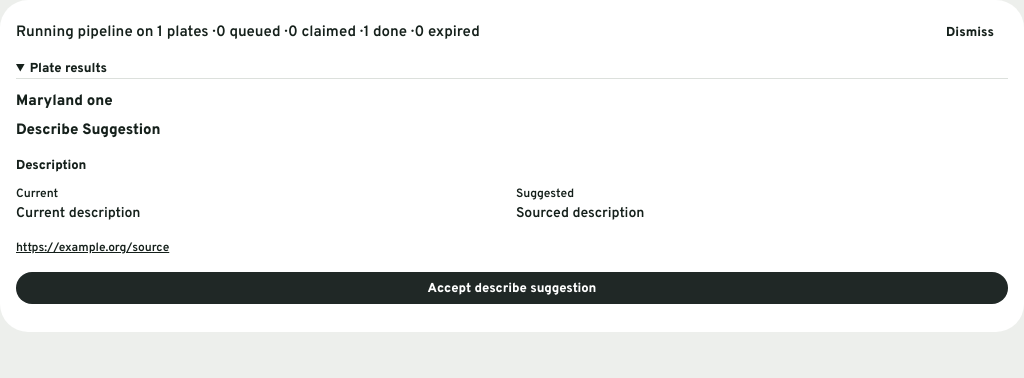
a sourced field suggestion uses the reviewed input hash and the existing Batch edit flow
expect the text "Current description" is shown: met, box [16, 205, 140, 222]
expect the text "Sourced description" is shown: met, box [516, 205, 644, 222]
Click the button "Accept describe suggestion".
click(512, 288)  # box [16, 272, 1008, 304]
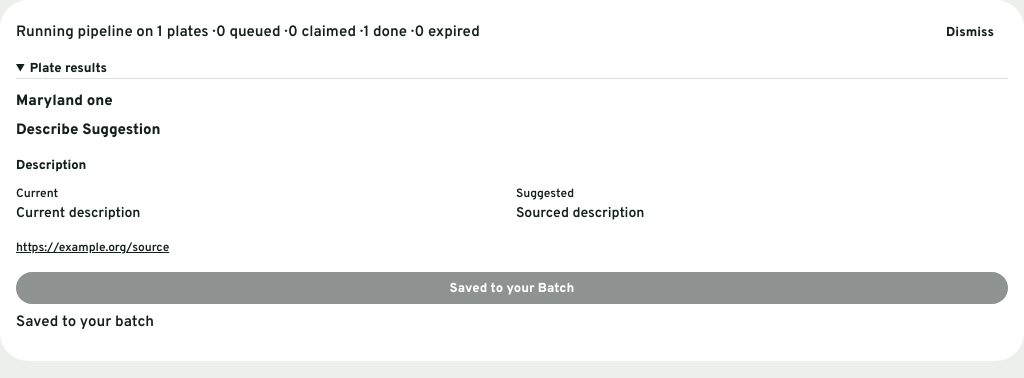
expect the button "Saved to your Batch" is disabled: met, box [16, 272, 1008, 304]
